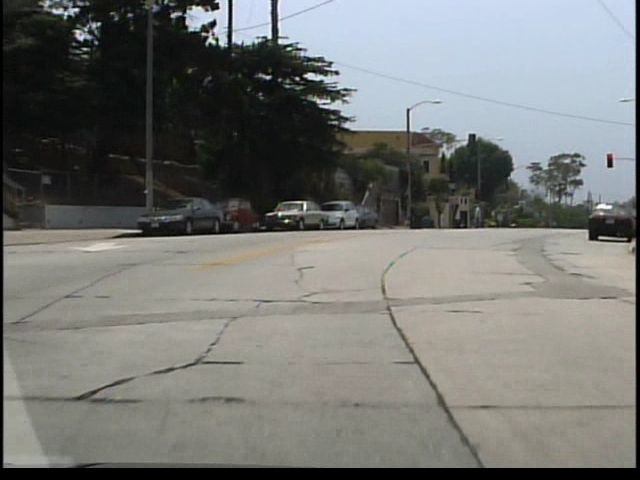person: (475, 205, 483, 230)
